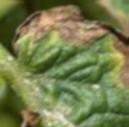Tomato Early blight leaf: (15, 7, 129, 127)
